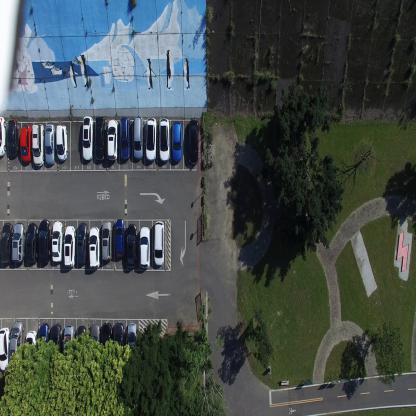car: (10, 318, 24, 376), (152, 219, 166, 267), (24, 328, 37, 376), (11, 221, 25, 263), (31, 122, 44, 167), (112, 322, 125, 366), (38, 321, 50, 368), (94, 114, 106, 161), (25, 221, 38, 264), (0, 221, 13, 264), (50, 322, 62, 368), (145, 116, 157, 162), (88, 225, 100, 271), (38, 218, 50, 264), (187, 119, 199, 164), (100, 320, 112, 364), (63, 323, 75, 367), (158, 118, 170, 162), (132, 116, 144, 160), (76, 221, 88, 265), (19, 122, 32, 162), (6, 118, 19, 158), (82, 115, 93, 162), (106, 117, 118, 160), (126, 223, 137, 269), (64, 223, 75, 269), (51, 220, 63, 262), (139, 226, 150, 270), (127, 322, 138, 366), (76, 324, 87, 368), (44, 123, 55, 166), (101, 219, 112, 262), (114, 217, 125, 259), (55, 124, 67, 162), (0, 326, 10, 371), (89, 322, 99, 366), (120, 116, 130, 159), (172, 121, 182, 164), (0, 116, 6, 158)
